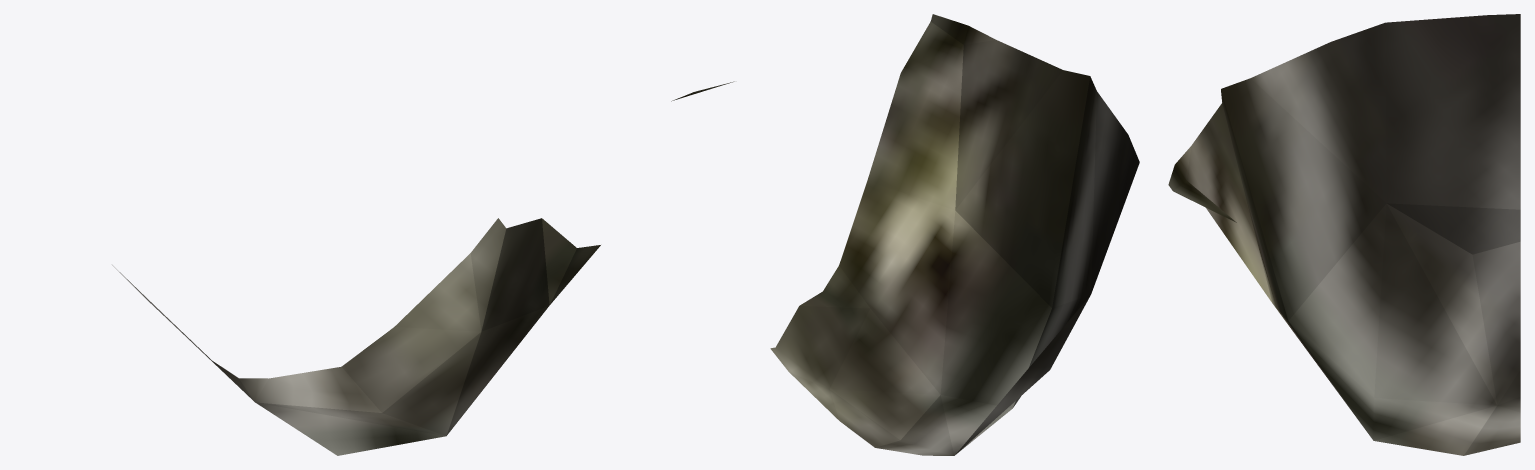
3 views of the same model, side by side, from view 1: azimuth 30°, elevation 25°; view 2: azimuth 150°, elevation 25°; view 3: azimuth 270°, elevation 25° (orthographic). The views are drawn at different scales.
Size of the model in its own units: 0.3527 by 0.3136 by 0.3071.
1 material, 1 textured.
